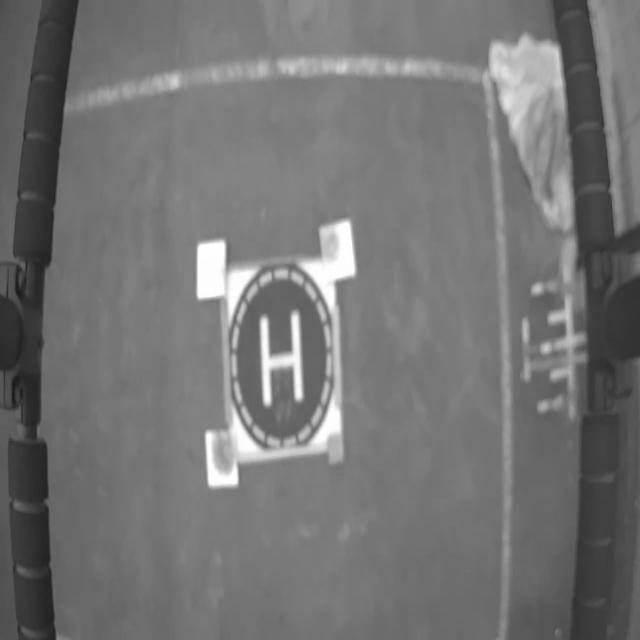Helipad: (258, 310, 306, 411)
